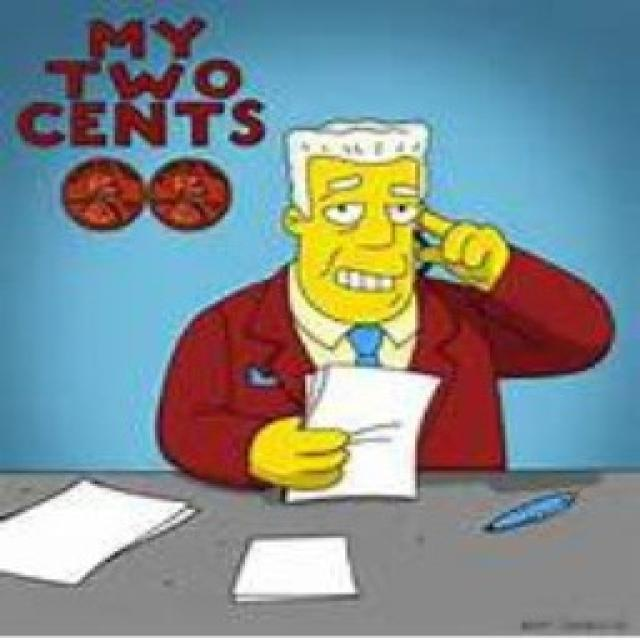Kent Brockman: (281, 108, 434, 326)
